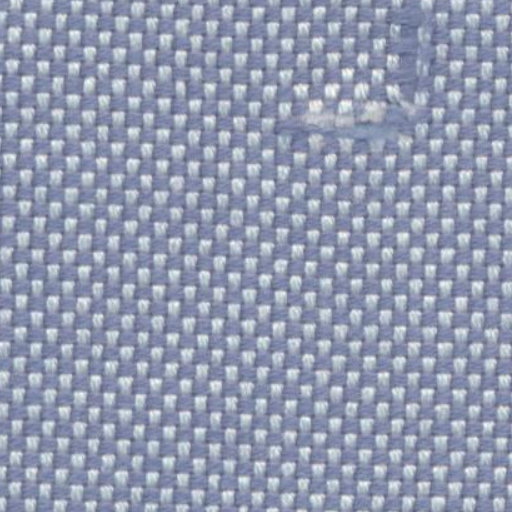PoDong: (265, 87, 441, 180)
